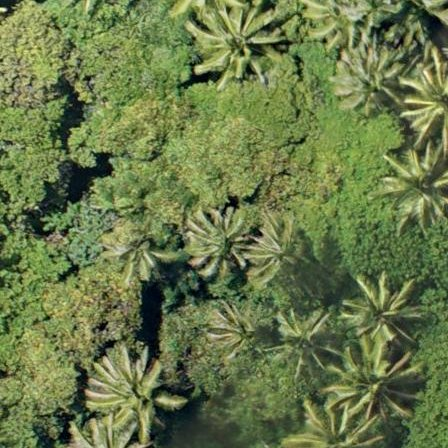palm_tree: (83, 344, 184, 439), (188, 9, 282, 87), (328, 39, 409, 126), (340, 270, 419, 355), (333, 351, 417, 419), (384, 144, 448, 226), (185, 209, 257, 280), (270, 313, 333, 375), (401, 56, 448, 139)
